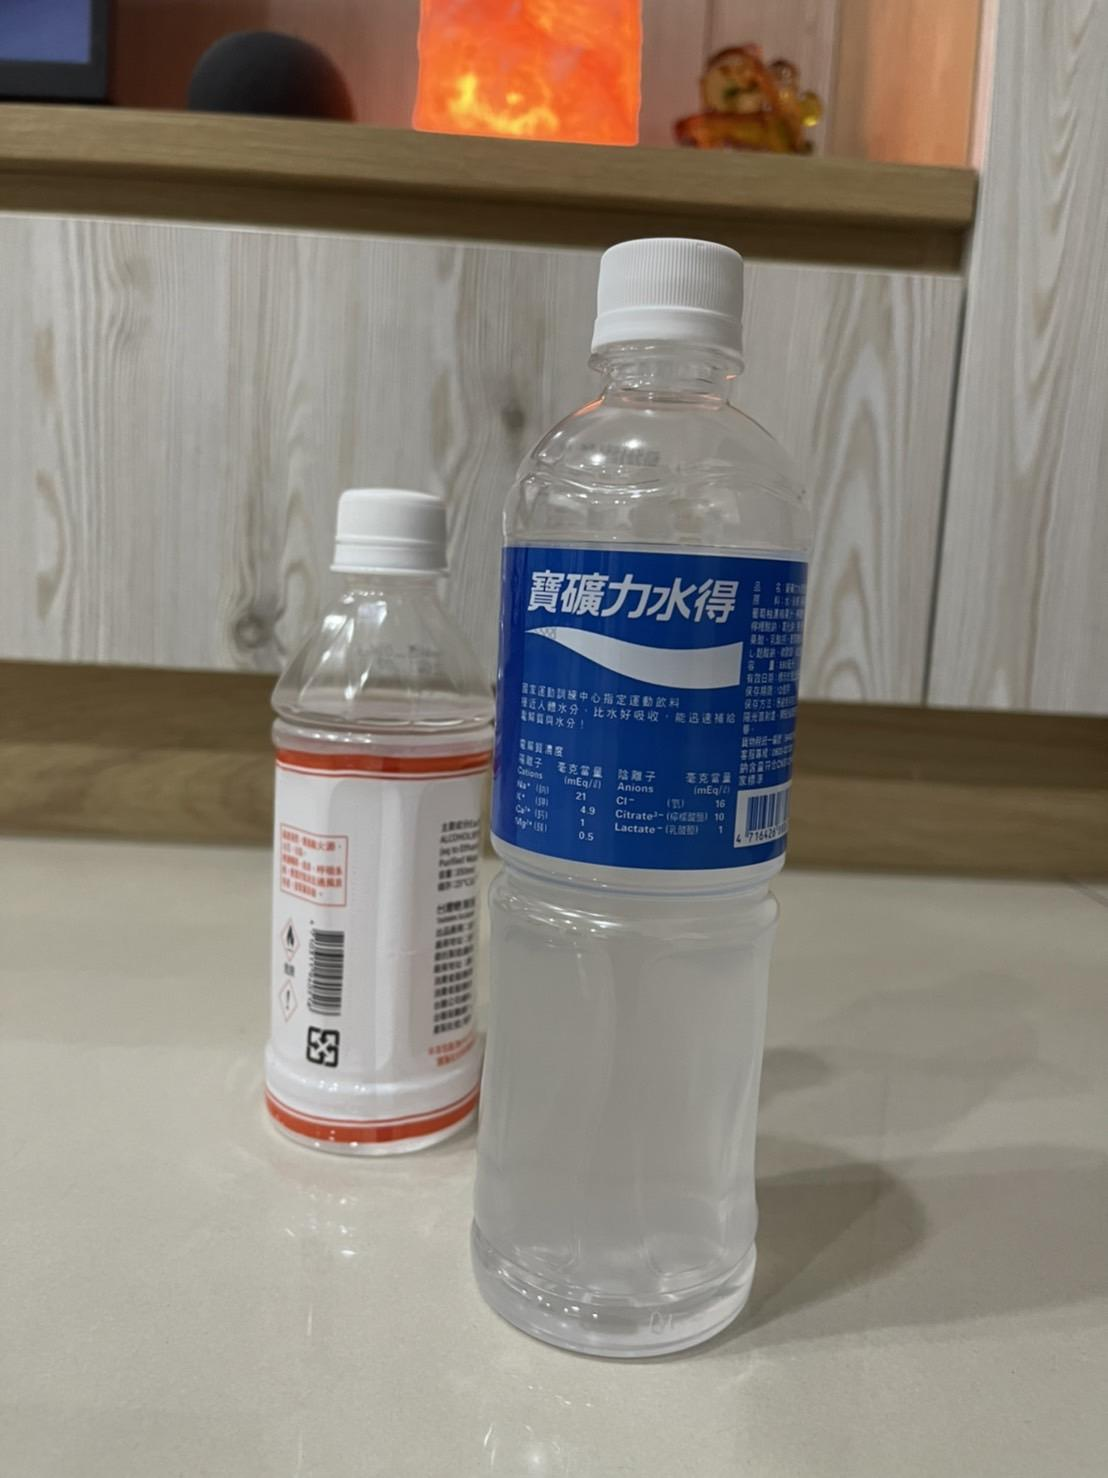bottle: (0, 0, 261, 658), (246, 0, 512, 369)
